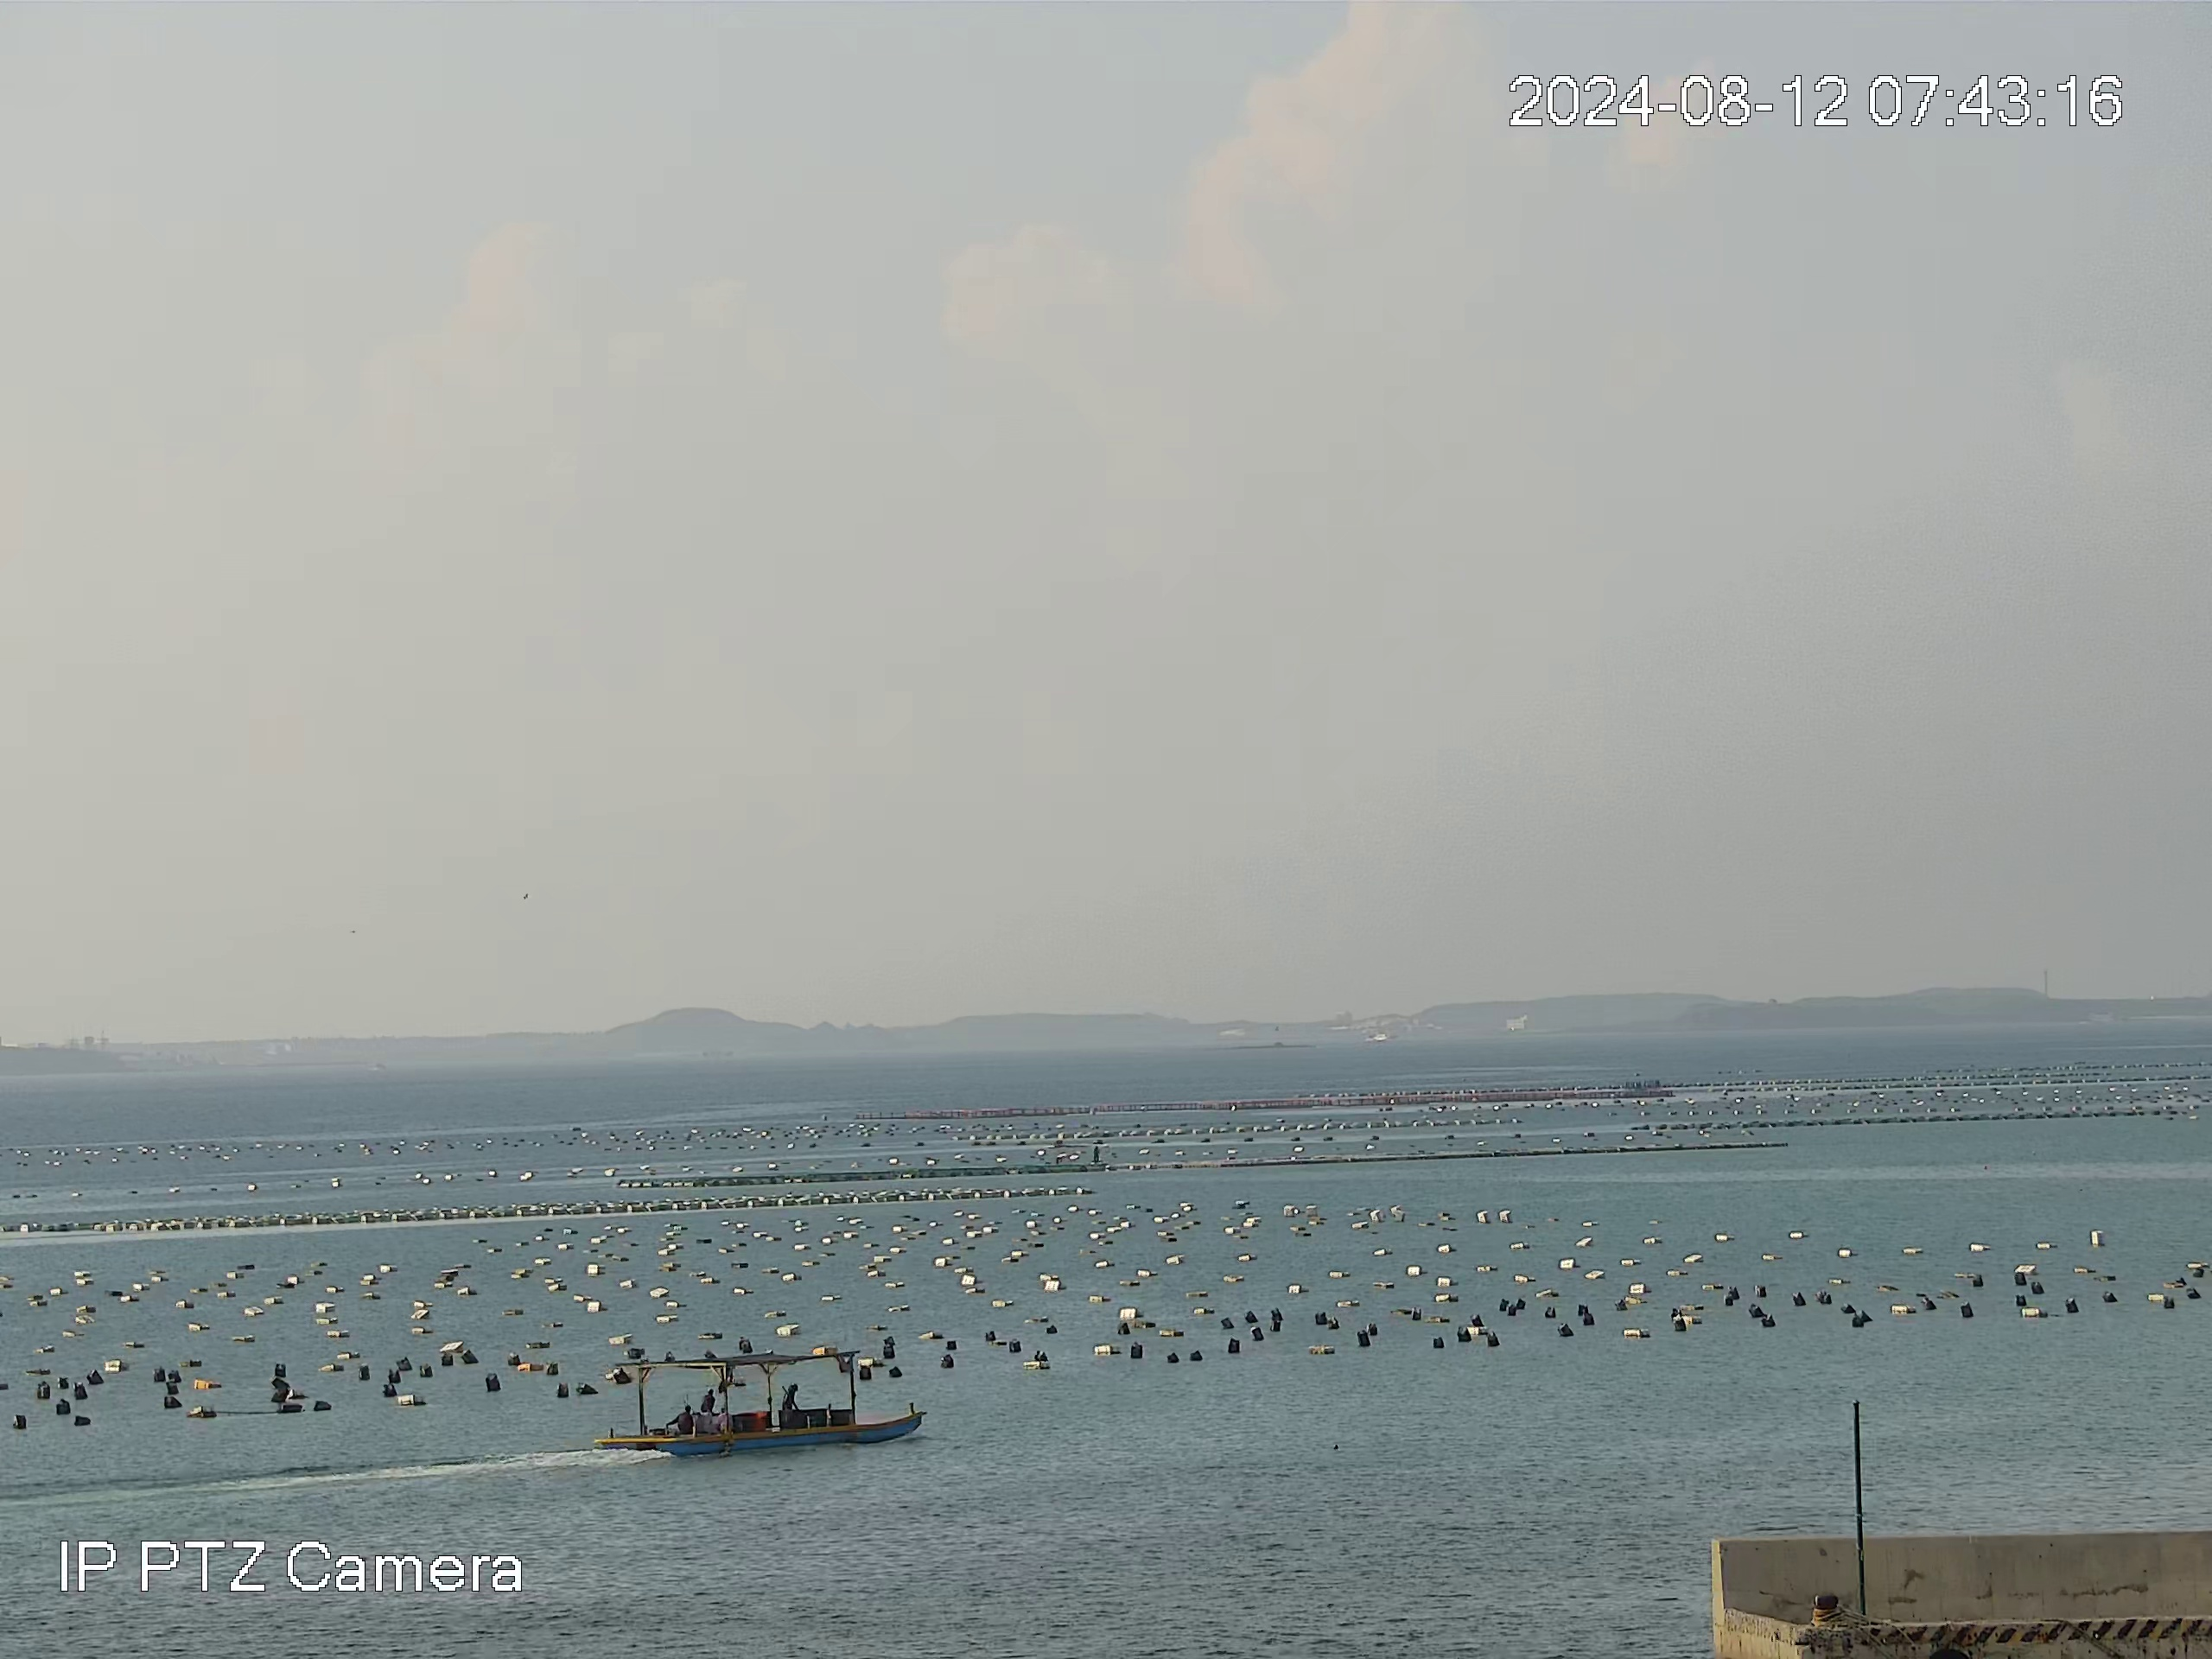boat: (594, 1344, 931, 1458)
